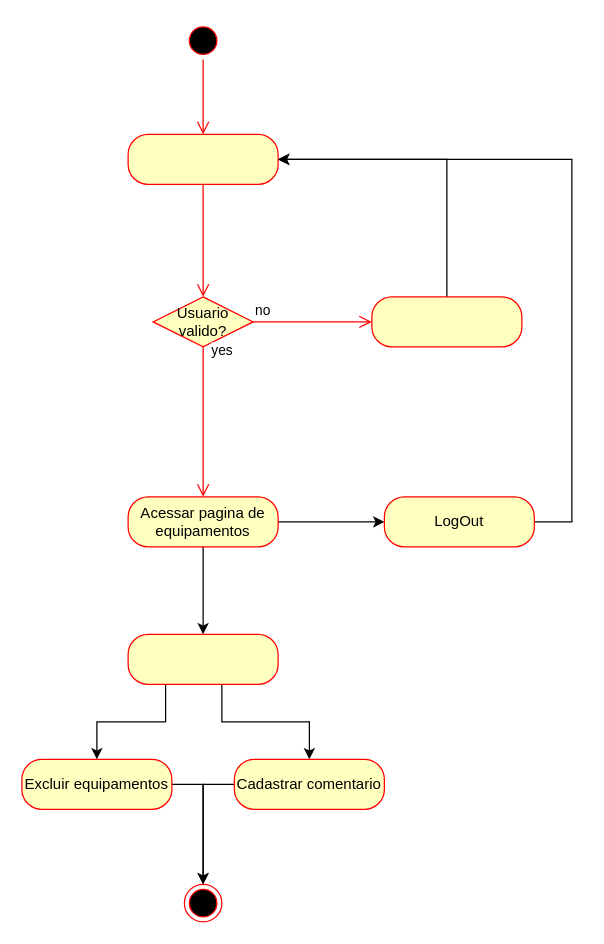
Image size: 604x944. Some labels were removed from this diagram. Here are the shapes that lost their labels. From the top down, the centre of each, then its label:
At [202,158]: "Efetuar Login".
At [446,321]: "Mostrar dados invalidos".
At [202,658]: "Cadastrar novo equipamento".
